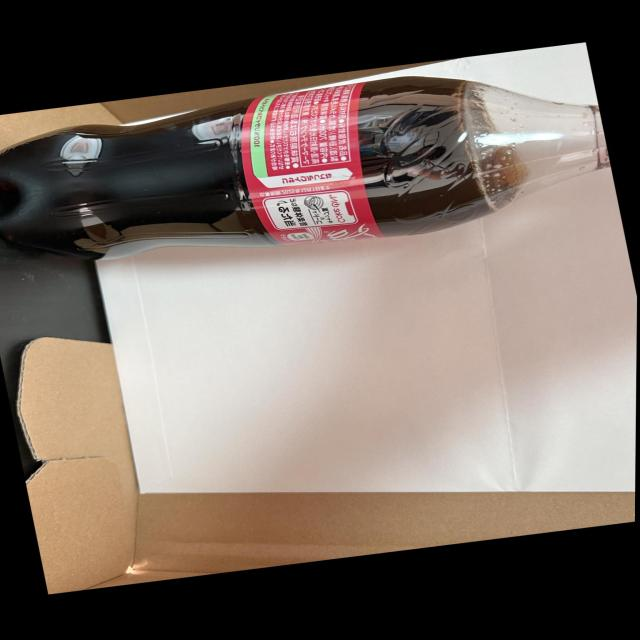high: (0, 77, 609, 261)
